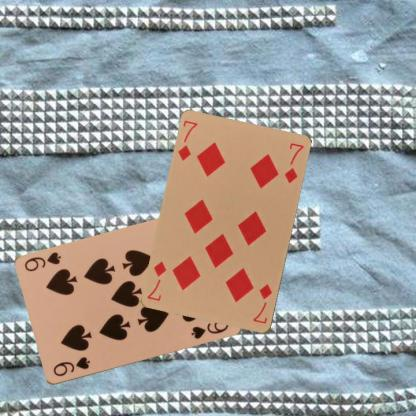7d: (175, 118, 199, 162), (251, 282, 274, 326)
9s: (51, 354, 92, 378)
